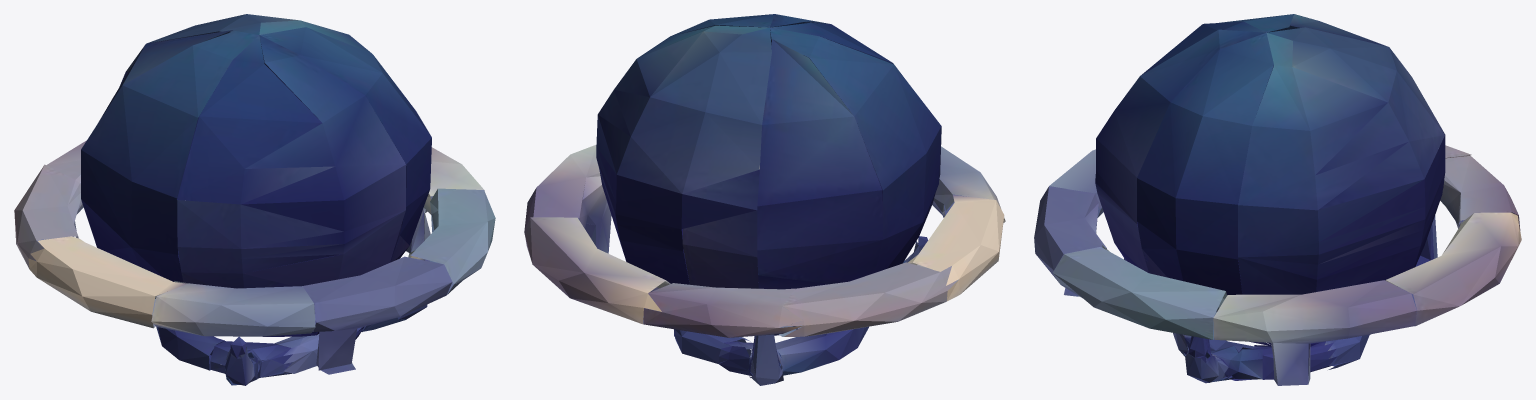
The model's file is sphere-package-with-cradle.glb.
The picture shows the model from 3 angles, left to right: view 1: azimuth 30°, elevation 25°; view 2: azimuth 150°, elevation 25°; view 3: azimuth 270°, elevation 25°; orthographic projection.
Parts seen in each view (by area): view 1: tripo_node_dd3c0e54-b940-4a0e-a97b-38f0f507f7b3; view 2: tripo_node_dd3c0e54-b940-4a0e-a97b-38f0f507f7b3; view 3: tripo_node_dd3c0e54-b940-4a0e-a97b-38f0f507f7b3.
Part boxes in pixels (x1,y1,x2,y2): tripo_node_dd3c0e54-b940-4a0e-a97b-38f0f507f7b3: [14, 14, 495, 385]; tripo_node_dd3c0e54-b940-4a0e-a97b-38f0f507f7b3: [524, 14, 1005, 385]; tripo_node_dd3c0e54-b940-4a0e-a97b-38f0f507f7b3: [1034, 14, 1521, 385].
Size of the model in its own units: 0.997 by 0.6998 by 1.
1 material, 1 textured.
